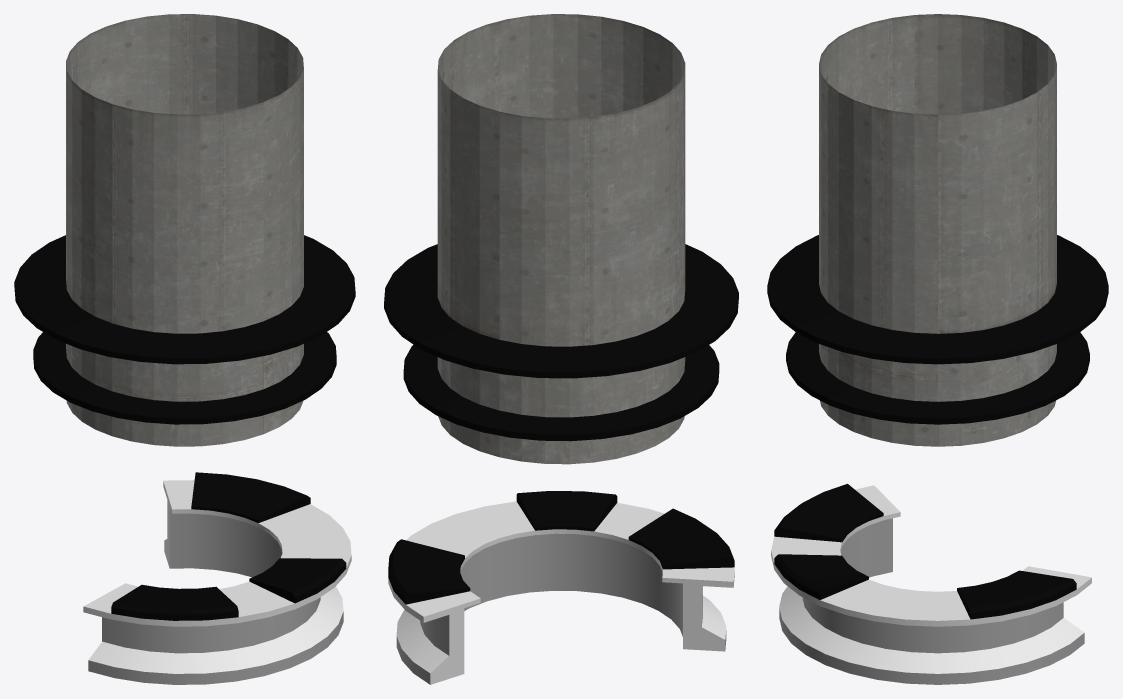
Rendered from Acceuil Centre.fbx.
3 views of the same model, side by side, from view 1: azimuth 30°, elevation 25°; view 2: azimuth 150°, elevation 25°; view 3: azimuth 270°, elevation 25° (orthographic). The views are drawn at different scales.
Visible parts, largest first — view 1: Centre Acceuil; view 2: Centre Acceuil; view 3: Centre Acceuil.
Part boxes in pixels (x1,y1,x2,y2): Centre Acceuil: (14, 14, 355, 684); Centre Acceuil: (384, 14, 738, 684); Centre Acceuil: (767, 14, 1108, 684).
Size of the model in its own units: 1119 by 2000 by 1119.
